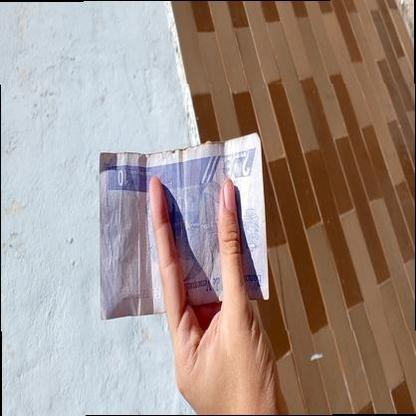ten-back-vef: (97, 132, 273, 320)
